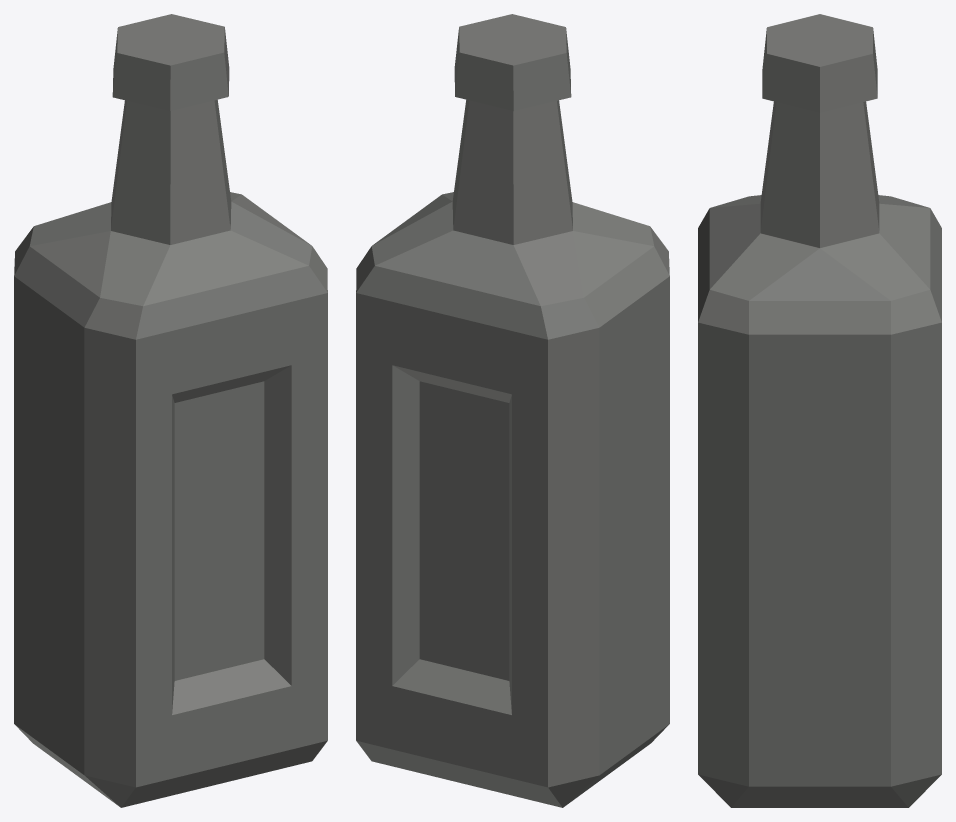
File: kingdom_SM_Item_Bottle_Clear_02.gltf
3 renders of one model, left to right at view 1: azimuth 30°, elevation 25°; view 2: azimuth 150°, elevation 25°; view 3: azimuth 270°, elevation 25°, orthographic.
Visible parts, largest first — view 1: SM_Item_Bottle_Clear_02; view 2: SM_Item_Bottle_Clear_02; view 3: SM_Item_Bottle_Clear_02.
Part boxes in pixels (bbox=[...]): SM_Item_Bottle_Clear_02: bbox=[14, 14, 327, 807]; SM_Item_Bottle_Clear_02: bbox=[356, 14, 669, 807]; SM_Item_Bottle_Clear_02: bbox=[698, 14, 941, 807].
Bounding box in the file's own units: 0.142 × 0.3981 × 0.1222.
1 material, 1 textured.
